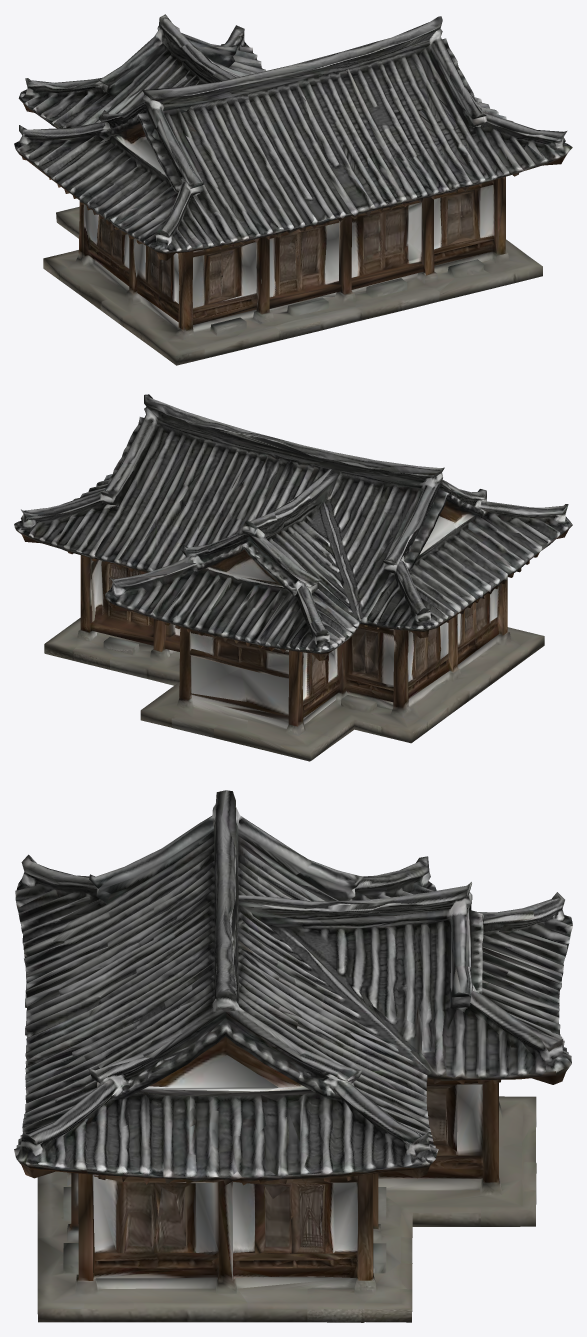
Rendered from giwa.glb.
3 views of the same model, one above another, from view 1: azimuth 30°, elevation 25°; view 2: azimuth 150°, elevation 25°; view 3: azimuth 270°, elevation 25° (orthographic). The views are drawn at different scales.
Parts seen in each view (by area): view 1: tripo_node_5c74d301-62bb-4bfb-9970-12081cfecb79; view 2: tripo_node_5c74d301-62bb-4bfb-9970-12081cfecb79; view 3: tripo_node_5c74d301-62bb-4bfb-9970-12081cfecb79.
Part boxes in pixels (x1,y1,x2,y2): tripo_node_5c74d301-62bb-4bfb-9970-12081cfecb79: (14, 14, 572, 365); tripo_node_5c74d301-62bb-4bfb-9970-12081cfecb79: (14, 394, 572, 761); tripo_node_5c74d301-62bb-4bfb-9970-12081cfecb79: (14, 790, 572, 1322).
Bounding box in the file's own units: 0.9811 × 0.4922 × 0.8077.
1 material, 1 textured.
